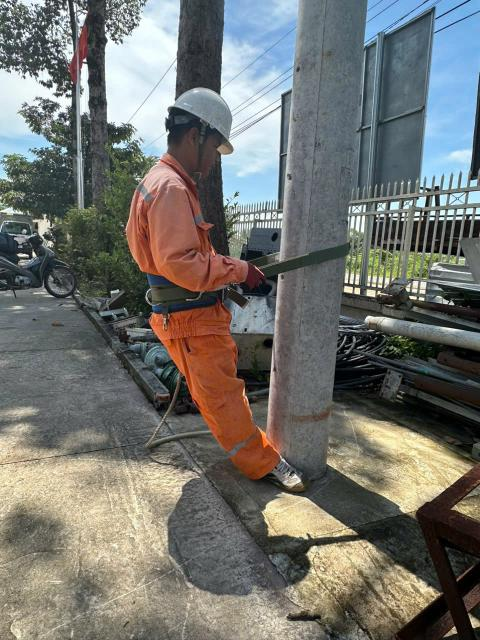gloves: (230, 250, 271, 289)
harness: (131, 257, 274, 319)
helmet: (162, 79, 251, 155)
shoes: (262, 453, 313, 497)
